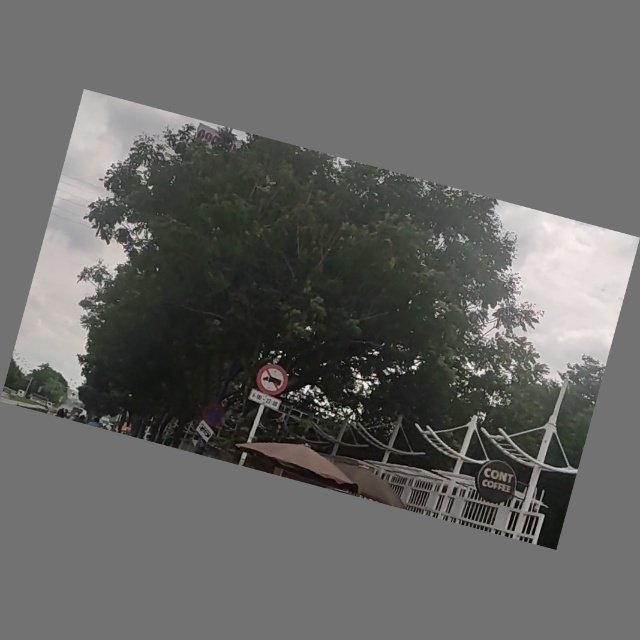B.8a: (250, 363, 292, 413)
